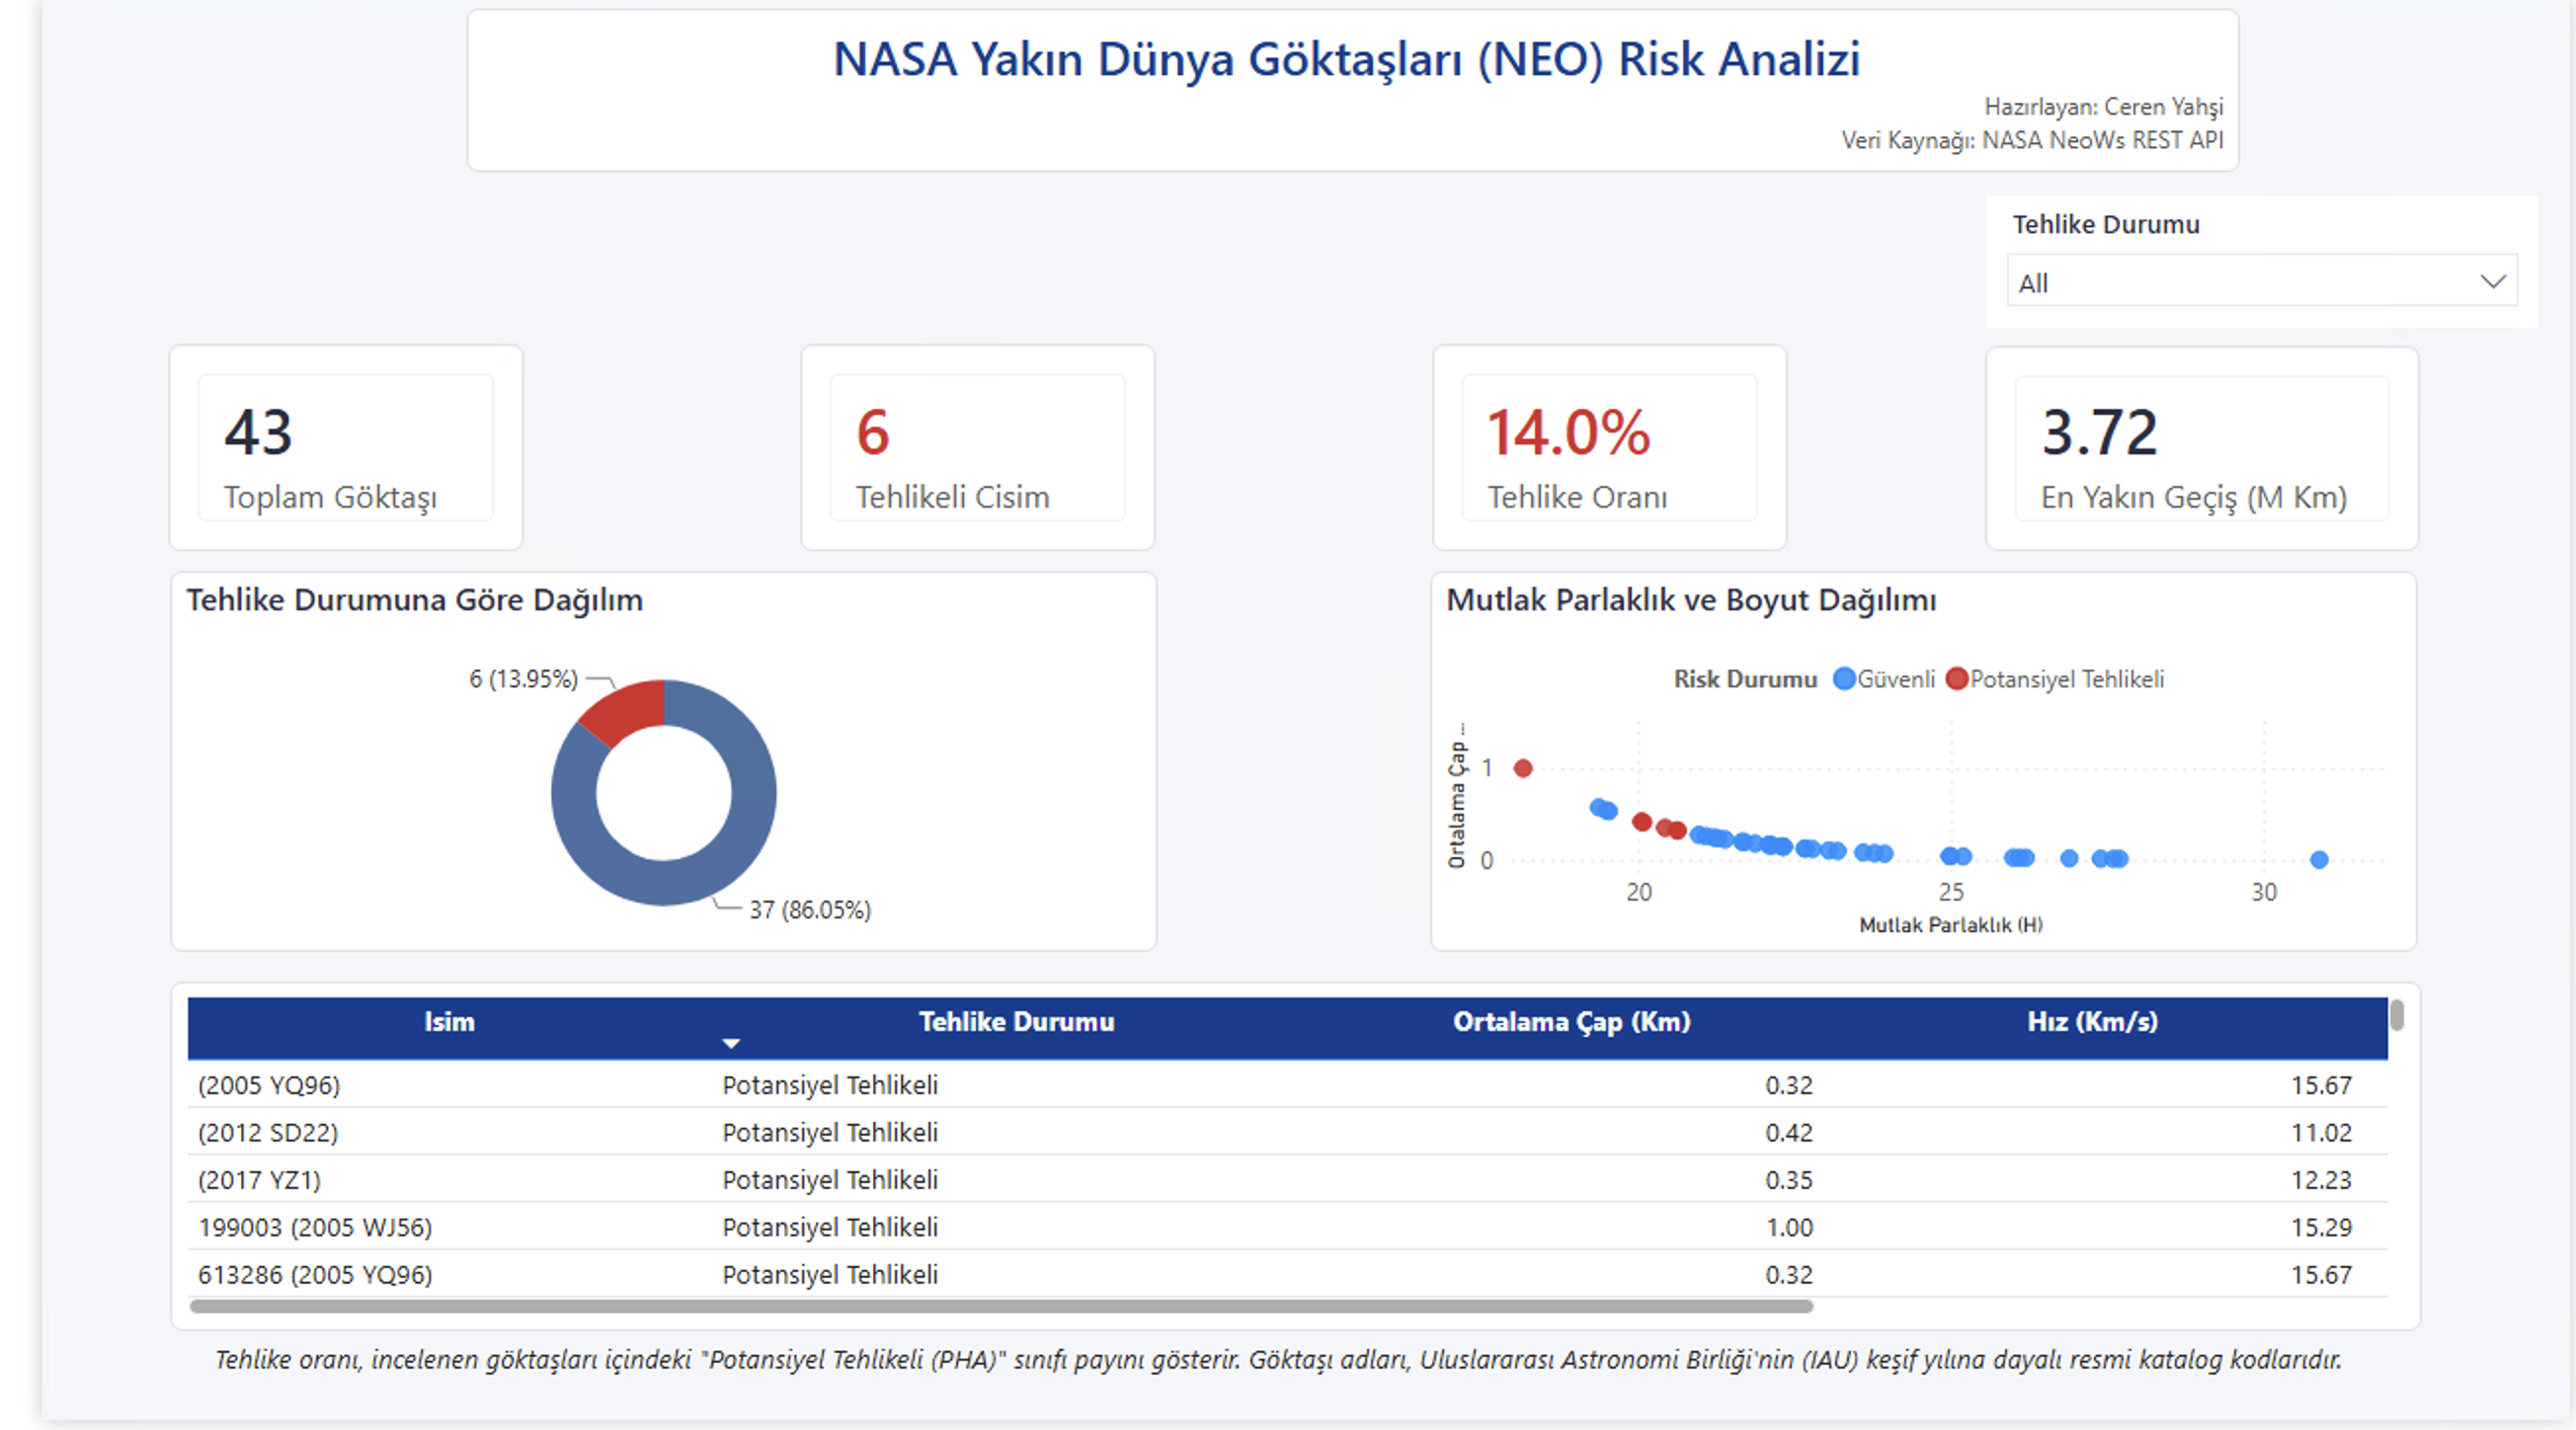

Layout of this report page (visuals, bound fields, positions):
{"tool":"powerbi","page":{"name":"Genel Bakış","canvas":[1280,720],"ordinal":0},"visuals":[{"type":"cardVisual","fields":{"Data":["_Measures.Toplam_Goktasi"]},"box":[64.2,175,180,105],"z":0},{"type":"cardVisual","fields":{"Data":["_Measures.Tehlikeli_Sayisi"]},"box":[384.2,175,180,105],"z":1000},{"type":"cardVisual","fields":{"Data":["_Measures.Tehlike_Orani"]},"box":[704.2,175,180,105],"z":2000},{"type":"cardVisual","fields":{"Data":["_Measures.Min_Iskalama_Milyon_Km"]},"box":[1024.2,175,180,105],"z":3000},{"type":"slicer","fields":{"Values":["Dim_Hazard.Column1Tehlike_Durumu"]},"box":[985,100,279,67],"z":4000},{"type":"donutChart","title":"Tehlike Durumuna Göre Dağılım","fields":{"Category":["Dim_Hazard.Tehlike_Durumu"],"Y":["_Measures.Toplam_Goktasi"]},"box":[65,290,500,193.3],"z":5000},{"type":"scatterChart","title":"Mutlak Parlaklık ve Boyut Dağılımı","fields":{"Category":["Fact_Asteroids.Isim"],"X":["Sum(Fact_Asteroids.Mutlak_Parlaklik)"],"Y":["Sum(Fact_Asteroids.Cap_Ortalama_Km)"],"Series":["Dim_Hazard.Tehlike_Durumu"]},"box":[703.3,290,500,193.3],"z":6000},{"type":"tableEx","fields":{"Values":["Fact_Asteroids.Isim","Dim_Hazard.Tehlike_Durumu","Sum(Fact_Asteroids.Cap_Ortalama_Km)","Sum(Fact_Asteroids.Hiz_Km_S)","Sum(Fact_Asteroids.Iskalama_Mesafesi_Km)"]},"box":[38.3,498.3,1140,177],"z":7000},{"type":"textbox","box":[215,5,898.3,83.3],"z":8000},{"type":"textbox","box":[65,686.7,1138.3,33.3],"z":8001}]}

Visuals, with their boxes in screenshot pixels (x1, y1, x2, y2), scaled from the page's 1280x720 canvas onto the 2576x1430 screenshot:
cardVisual - _Measures.Toplam_Goktasi: 129,348,492,556
cardVisual - _Measures.Tehlikeli_Sayisi: 773,348,1136,556
cardVisual - _Measures.Tehlike_Orani: 1417,348,1780,556
cardVisual - _Measures.Min_Iskalama_Milyon_Km: 2061,348,2424,556
slicer - Dim_Hazard.Column1Tehlike_Durumu: 1982,199,2543,332
"Tehlike Durumuna Göre Dağılım" donutChart: 130,576,1137,960
"Mutlak Parlaklık ve Boyut Dağılımı" scatterChart: 1415,576,2422,960
tableEx - Fact_Asteroids.Isim x Dim_Hazard.Tehlike_Durumu: 77,990,2372,1341
textbox: 433,10,2240,176
textbox: 130,1364,2422,1429
